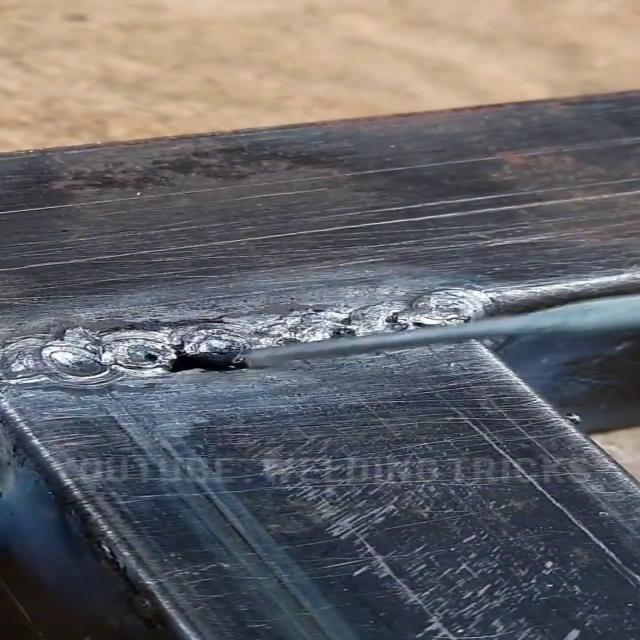Bad Weld: (6, 292, 515, 389)
Defect: (133, 340, 255, 382)
